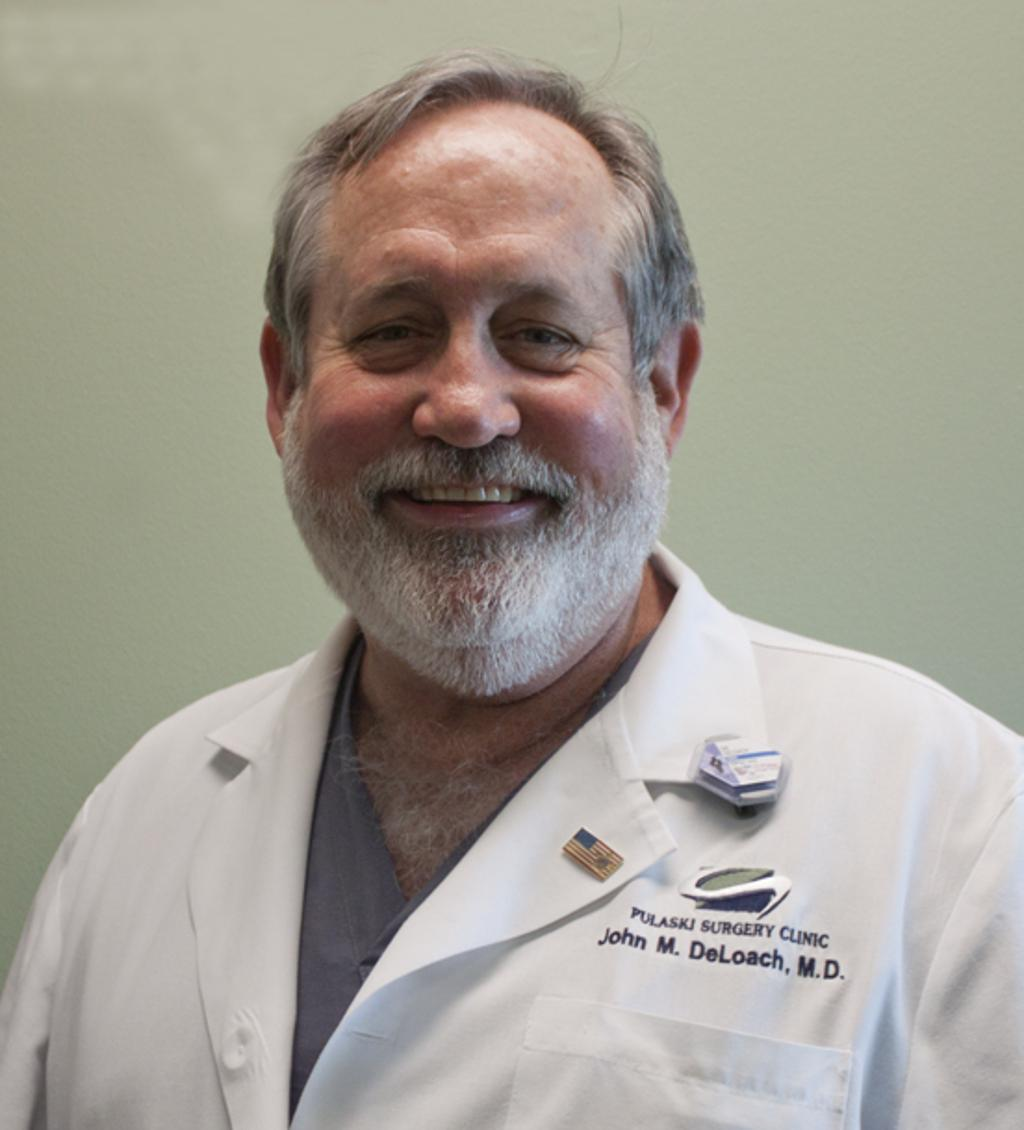face: (311, 121, 642, 693)
